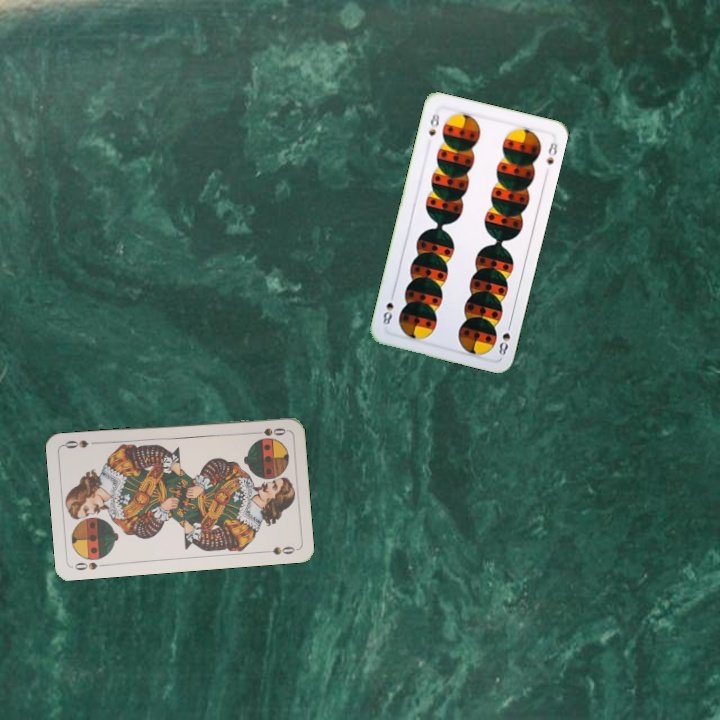S8: (495, 318, 514, 358), (425, 109, 442, 139)
SO: (71, 558, 110, 573), (248, 424, 289, 438)
